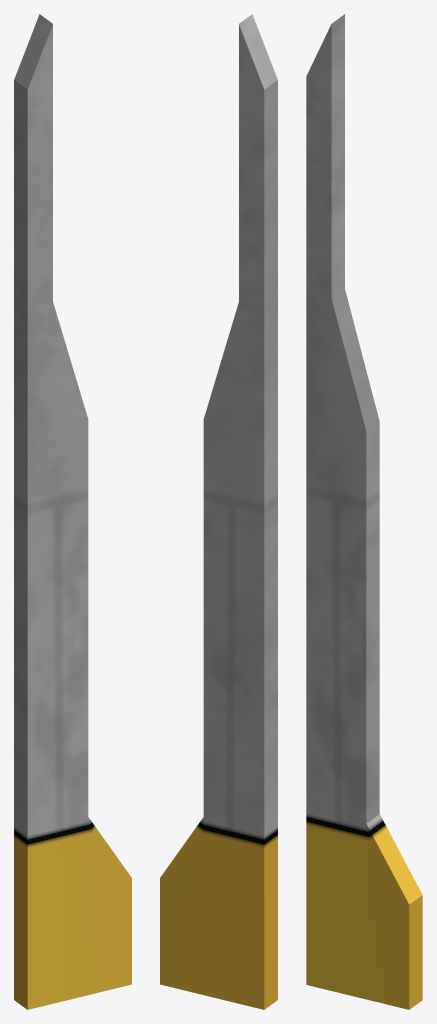
The model's file is antenna_4.fbx.
3 renders of one model, left to right at view 1: azimuth 30°, elevation 25°; view 2: azimuth 150°, elevation 25°; view 3: azimuth 330°, elevation 25°, orthographic.
Parts seen in each view (by area): view 1: antenna_4; view 2: antenna_4; view 3: antenna_4.
Part boxes in pixels (left/top/right/bottom): antenna_4: left=14, top=14, right=131, bottom=1009; antenna_4: left=160, top=14, right=277, bottom=1009; antenna_4: left=306, top=14, right=422, bottom=1009.
Bounding box in the file's own units: 5.3 × 47.54 × 1.19.
Materials: 1 (1 with a texture image).
